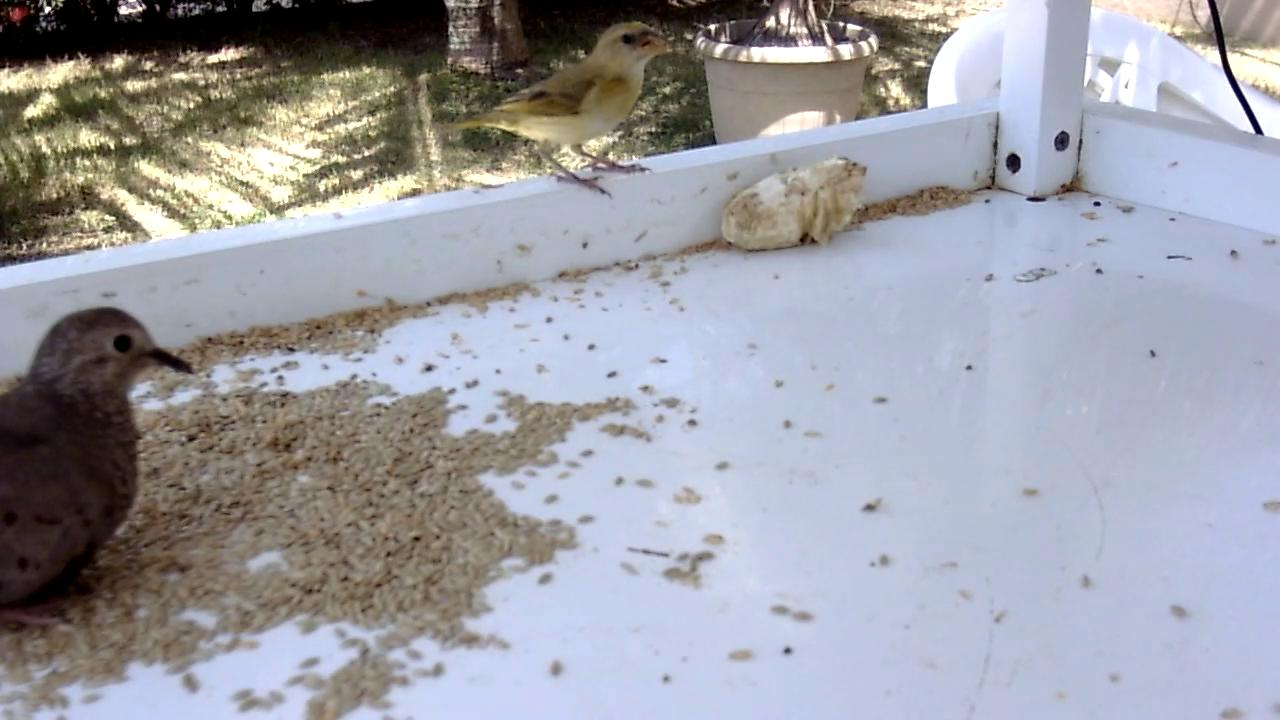canario_do_amazonas: (448, 21, 674, 203)
rolinha: (1, 306, 200, 634)
